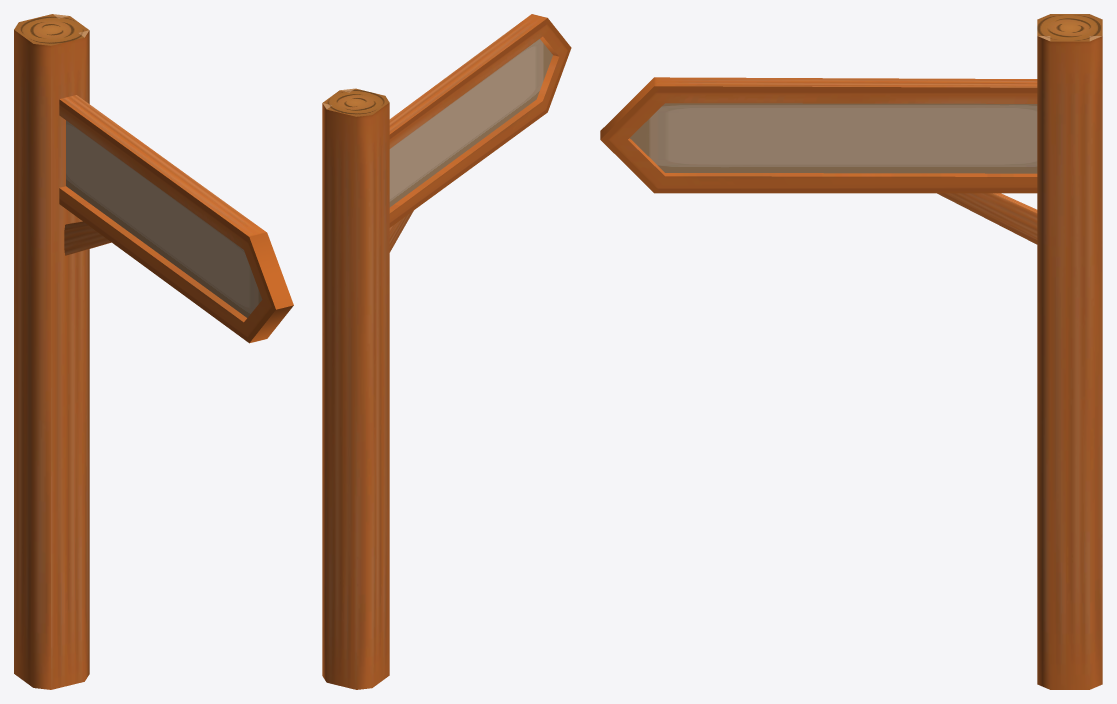
The model's file is Gum Wood Sign Hand.fbx.
The picture shows the model from 3 angles, left to right: view 1: azimuth 30°, elevation 25°; view 2: azimuth 150°, elevation 25°; view 3: azimuth 270°, elevation 25°; orthographic projection. The views are drawn at different scales.
Parts seen in each view (by area): view 1: FencePost (1); view 2: FencePost (1); view 3: FencePost (1).
Part boxes in pixels (x1,y1,x2,y2): FencePost (1): (14,14,293,689); FencePost (1): (322,14,571,689); FencePost (1): (600,14,1102,689).
Bounding box in the file's own units: 0.1669 × 1.83 × 1.29.
